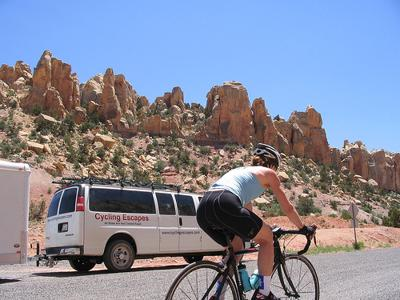person: (193, 144, 317, 300)
